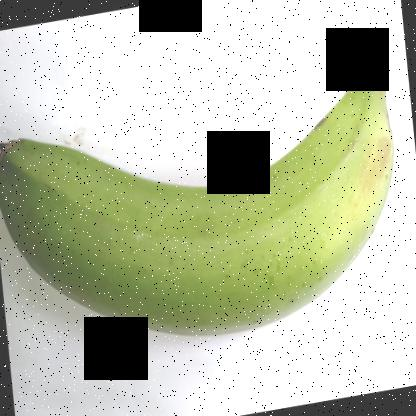freshunripe: (0, 51, 404, 346)
